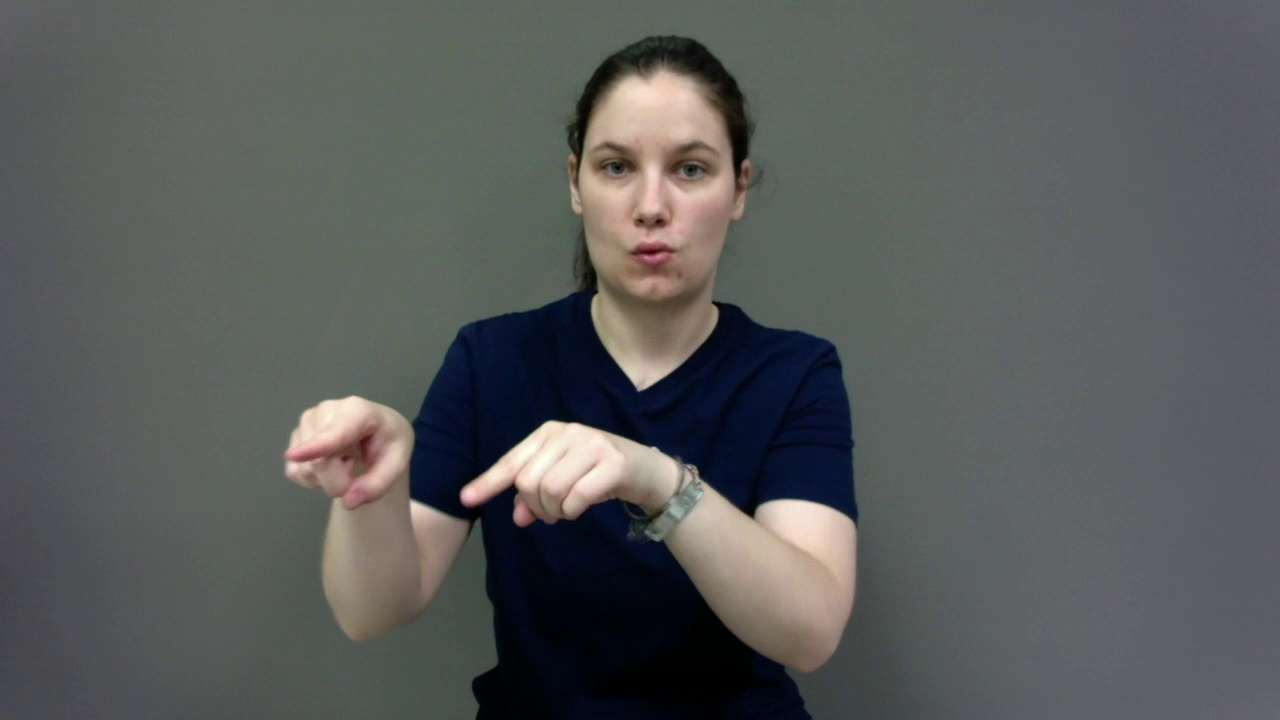go: (275, 376, 695, 538)
